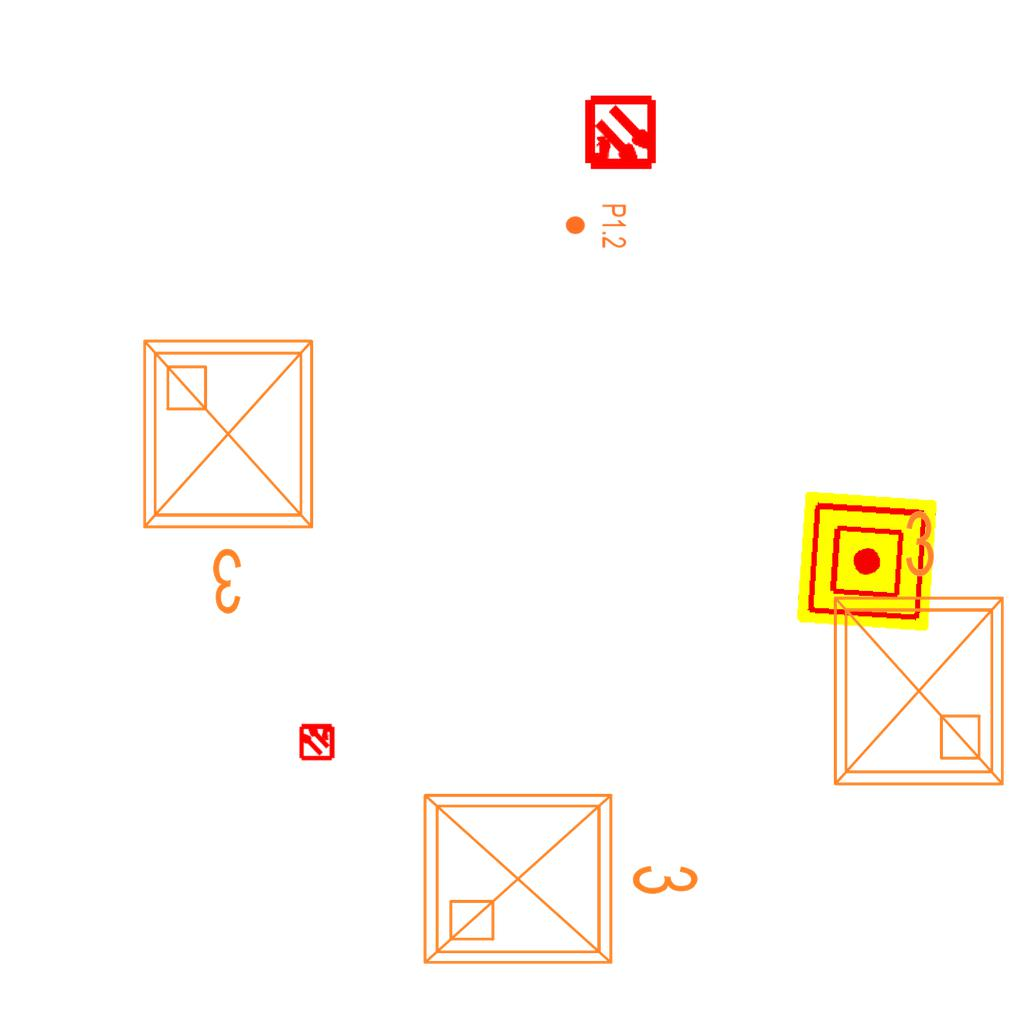Downlight_LED_Einbauleuchten_Flur: (564, 203, 628, 249)
Einbaudownlights_LED_Konferenzraeume: (409, 771, 709, 979), (128, 325, 336, 625), (811, 500, 1019, 800)
NAM-Nichtautomatischer_Melder: (796, 490, 938, 632)
OT_Multisensormelder_(Kombination_RMO_WMD): (564, 78, 677, 191), (289, 713, 345, 769)
